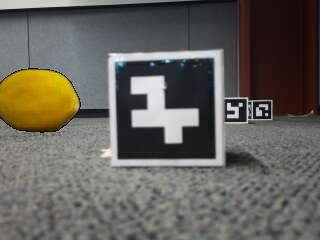lemon: (2, 70, 82, 133)
